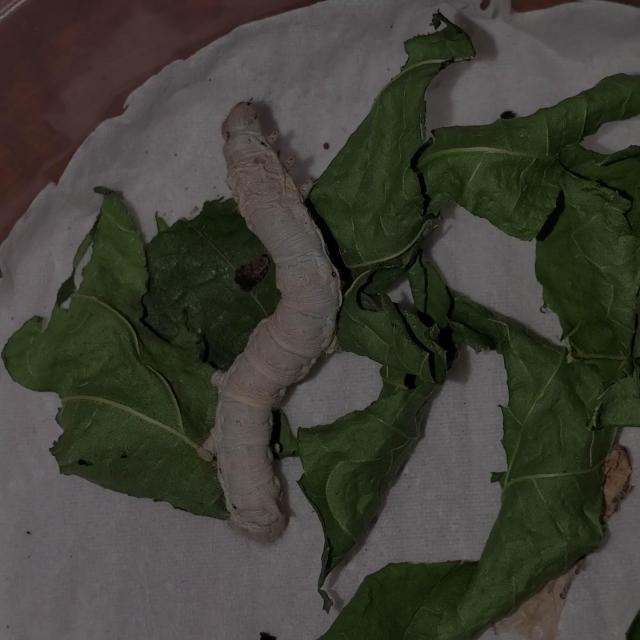Healthy: (193, 91, 347, 547)
